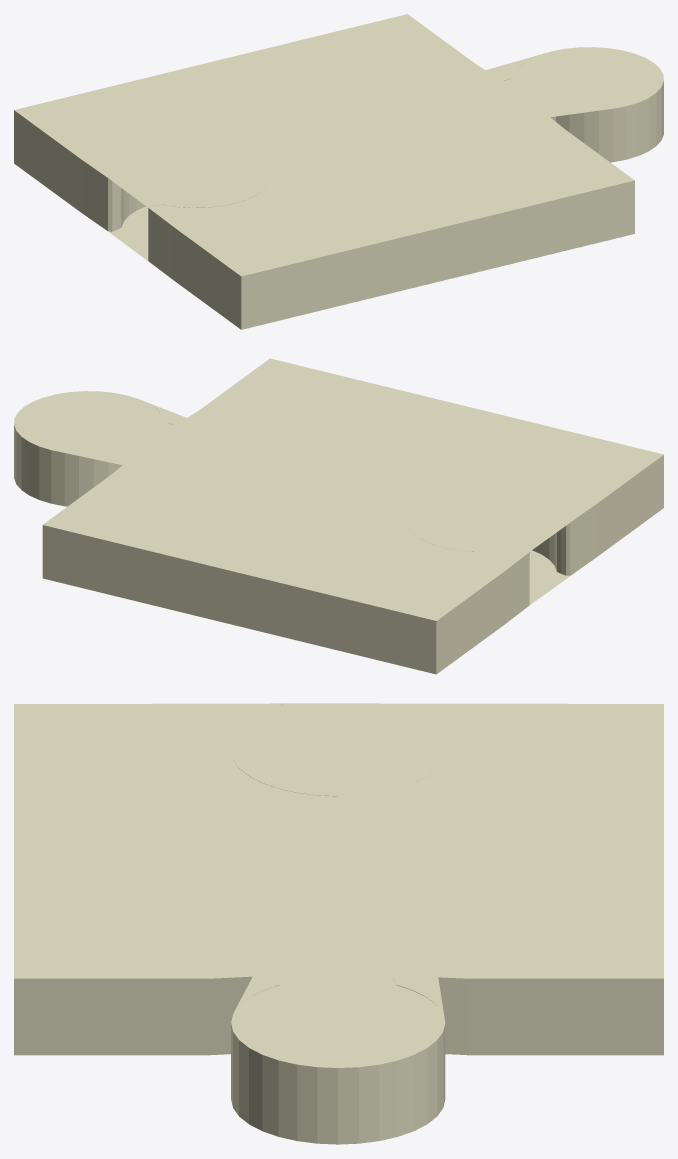
The model's file is block_2.fbx.
The picture shows the model from 3 angles, top to bottom: view 1: azimuth 30°, elevation 25°; view 2: azimuth 150°, elevation 25°; view 3: azimuth 270°, elevation 25°; orthographic projection. The views are drawn at different scales.
Parts seen in each view (by area): view 1: Plane.002; view 2: Plane.002; view 3: Plane.002.
Boxes of the visible parts, <box> form: Plane.002: <box>14,14,663,329</box>; Plane.002: <box>14,358,663,674</box>; Plane.002: <box>14,703,663,1144</box>.
Size of the model in its own units: 134 by 13.53 by 100.
